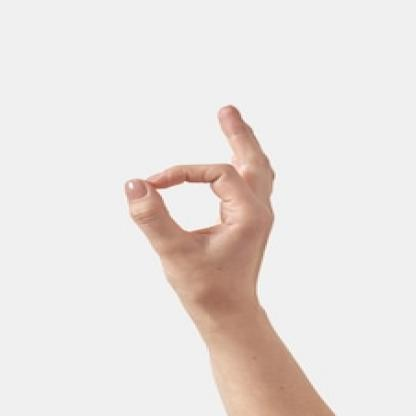ok: (98, 100, 279, 304)
